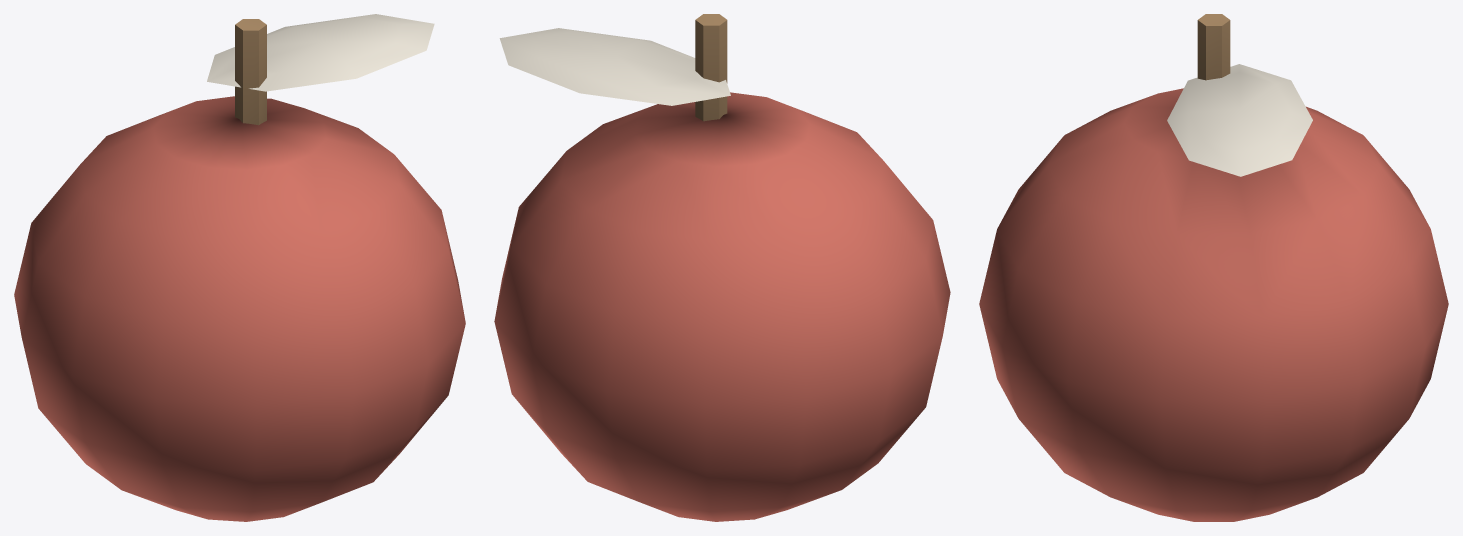
File: forage_fruit.glb
3 renders of one model, left to right at view 1: azimuth 30°, elevation 25°; view 2: azimuth 150°, elevation 25°; view 3: azimuth 270°, elevation 25°, orthographic. The views are drawn at different scales.
Visible parts, largest first — view 1: PART; view 2: PART; view 3: PART.
Part boxes in pixels (x1,y1,x2,y2): PART: (14, 14, 465, 521); PART: (494, 14, 950, 521); PART: (979, 14, 1448, 521).
Bounding box in the file's own units: 0.0729 × 0.0821 × 0.072.
